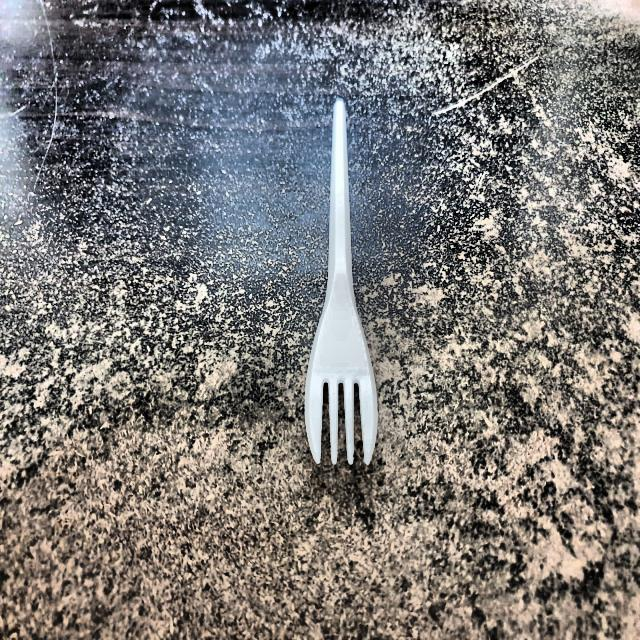plastic utensil: (301, 92, 380, 472)
